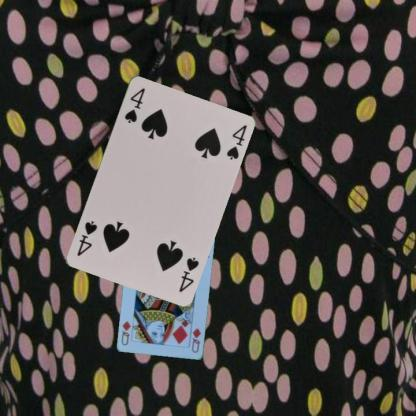4s: (176, 254, 200, 294), (122, 85, 146, 124)
Qd: (190, 325, 202, 354)
